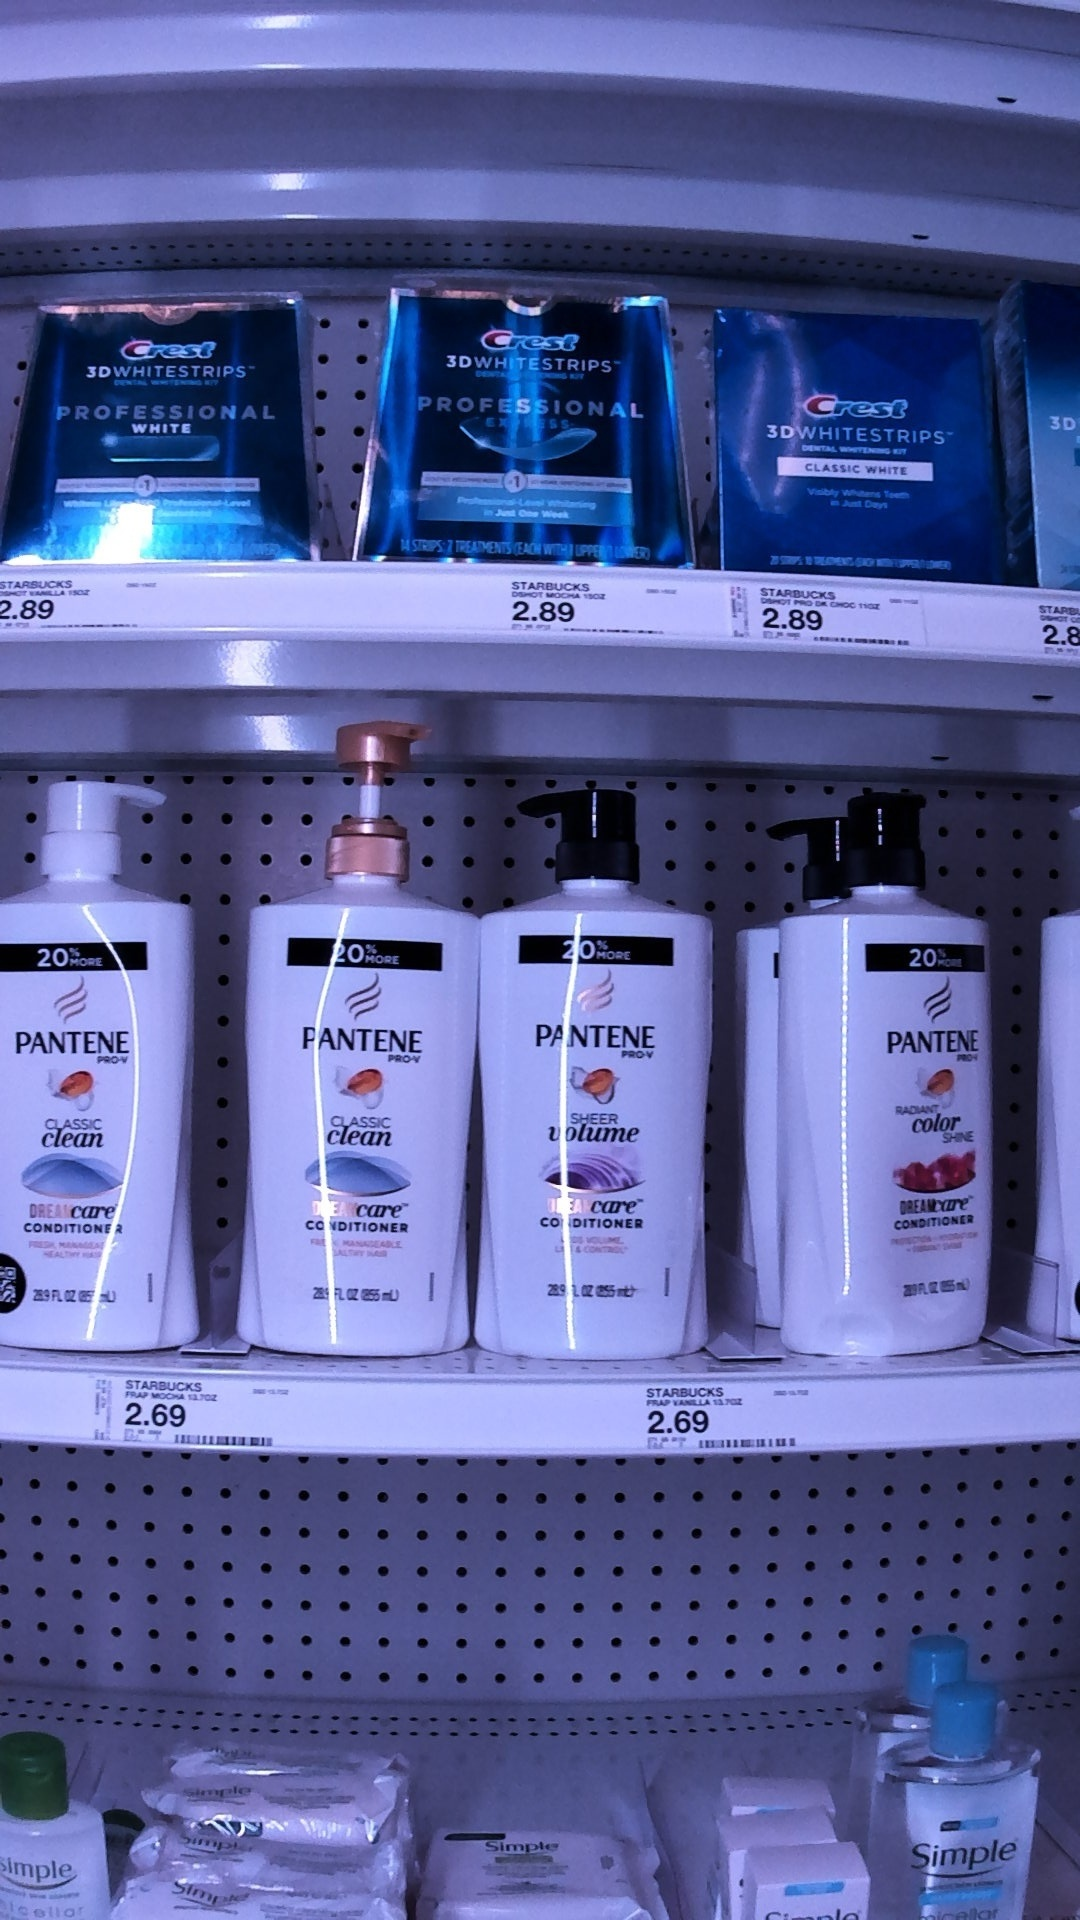ptag: (94, 1369, 301, 1455), (727, 574, 940, 655), (636, 1382, 820, 1464), (498, 571, 694, 644), (1, 574, 164, 640)
